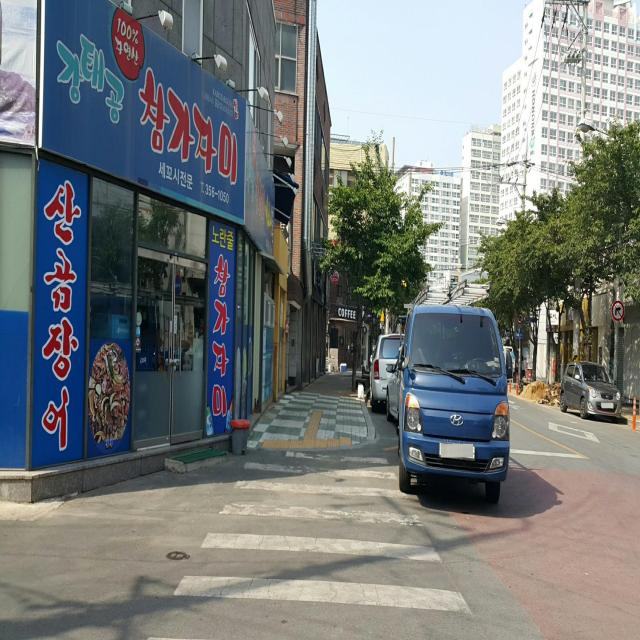횡단보도: (145, 446, 475, 640)
